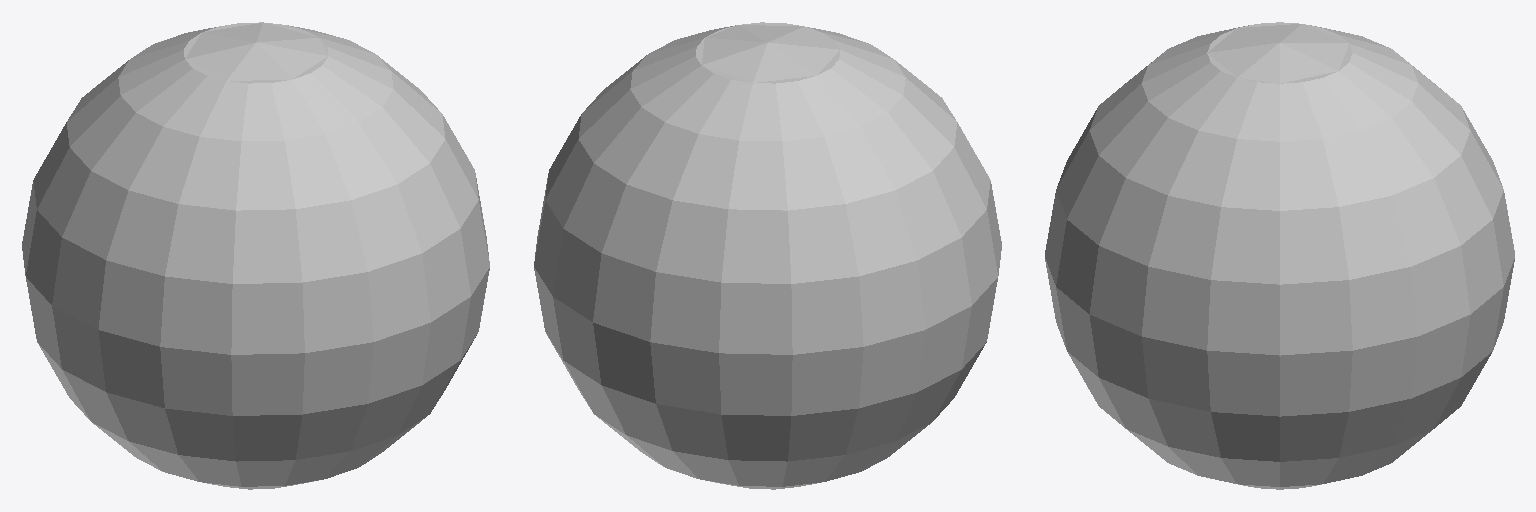
The model's file is triangleStepExpanderR.obj.
3 views of the same model, side by side, from view 1: azimuth 30°, elevation 25°; view 2: azimuth 150°, elevation 25°; view 3: azimuth 270°, elevation 25° (orthographic).
Parts seen in each view (by area): view 1: Default; view 2: Default; view 3: Default.
Part boxes in pixels (bbox=[...]): Default: bbox=[22, 22, 489, 489]; Default: bbox=[534, 22, 1001, 489]; Default: bbox=[1045, 22, 1514, 489].
Bounding box in the file's own units: 0.925 × 0.925 × 0.925.